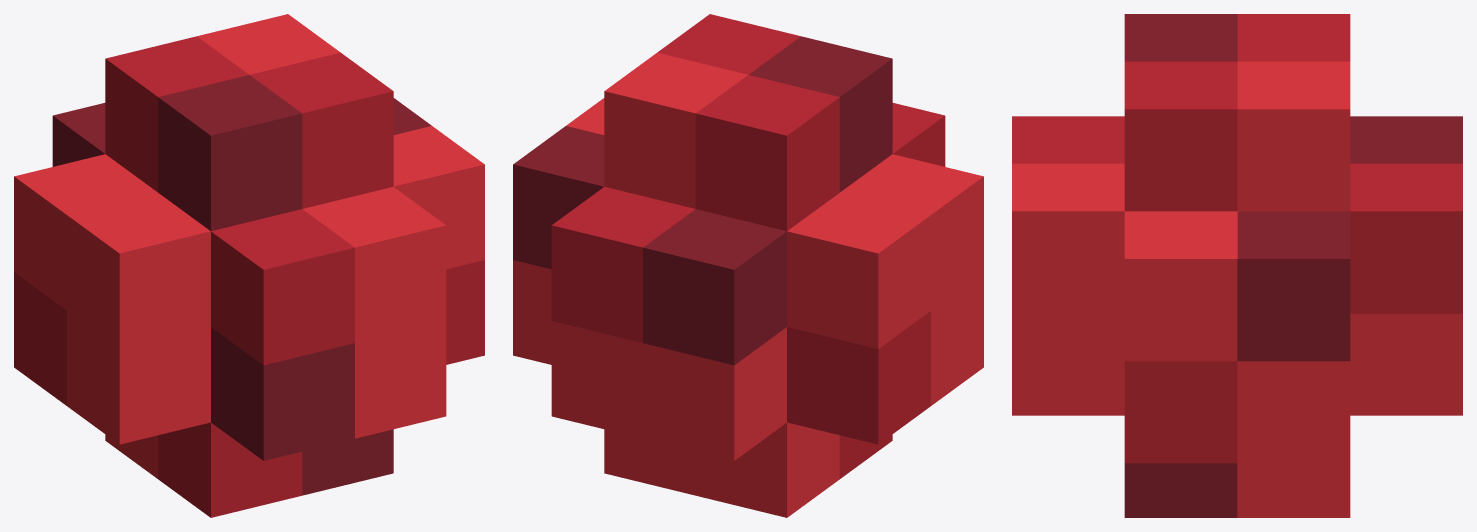
File: Meatball.obj
The picture shows the model from 3 angles, left to right: view 1: azimuth 30°, elevation 25°; view 2: azimuth 150°, elevation 25°; view 3: azimuth 270°, elevation 25°; orthographic projection. The views are drawn at different scales.
Parts seen in each view (by area): view 1: Meatball; view 2: Meatball; view 3: Meatball.
Part boxes in pixels (x1,y1,x2,y2): Meatball: (14, 14, 484, 517); Meatball: (513, 14, 983, 517); Meatball: (1012, 14, 1462, 517).
Bounding box in the file's own units: 4 × 4 × 4.
Materials: 1 (1 with a texture image).
